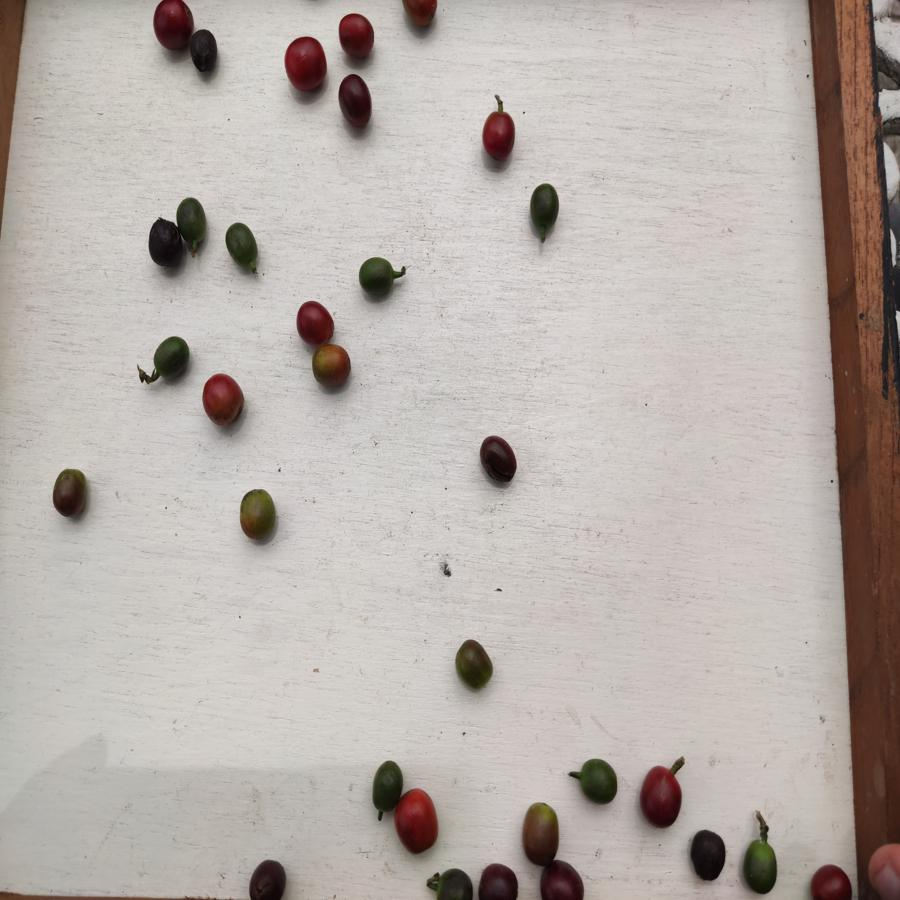Inmaduro: (743, 839, 780, 895), (576, 757, 618, 804), (355, 257, 400, 298), (228, 220, 262, 273), (151, 334, 191, 379), (176, 197, 211, 248), (526, 181, 564, 227), (432, 864, 474, 900), (371, 759, 401, 809)
Maduro: (281, 36, 333, 93), (201, 371, 253, 428), (397, 788, 442, 852), (480, 110, 520, 162), (336, 13, 377, 60), (297, 301, 337, 342)
Pinton: (522, 800, 562, 865), (239, 484, 278, 544), (454, 639, 498, 691), (309, 342, 352, 393), (49, 468, 92, 517)
Sobremaduro: (640, 760, 691, 837), (474, 434, 519, 489), (689, 827, 726, 888), (537, 856, 588, 900), (148, 1, 192, 52), (144, 216, 183, 270), (339, 72, 373, 133), (475, 858, 522, 900), (187, 26, 221, 81), (809, 863, 856, 900), (250, 859, 286, 900)
